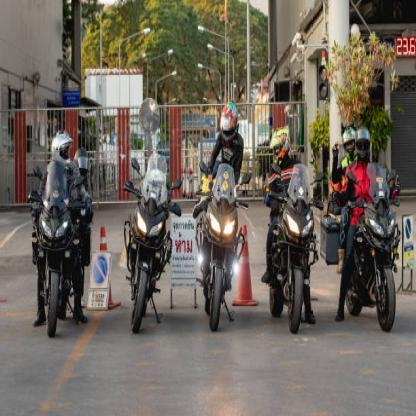Motorcycle: (30, 159, 82, 337), (266, 174, 317, 335), (350, 182, 404, 330), (197, 170, 239, 341), (119, 159, 159, 330)
